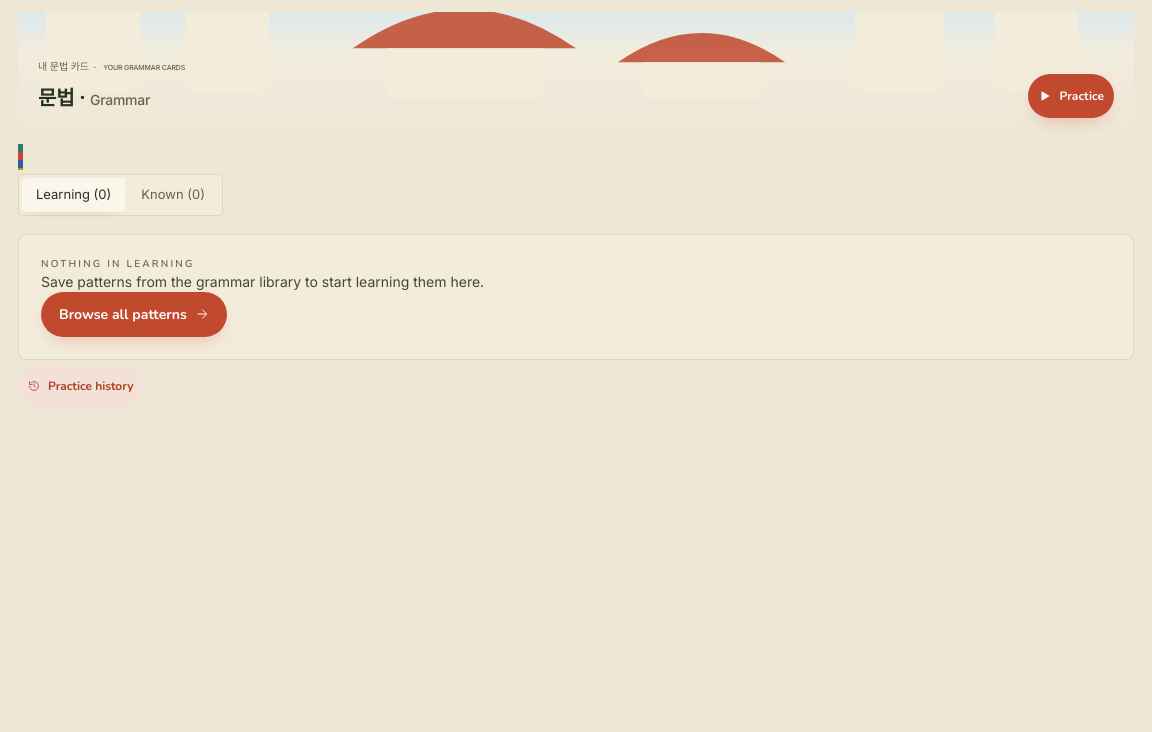
Test: Grammar — 3C-1 shape (cards default, Practice top-right, no tabs) › the BackButton on the practice view returns to the cards view (F-024)
expect the button "Learning (0)" is shown: met, box [22,178,125,212]
Step 1. Click the button "Practice" → (1071, 96), box [1028,74,1114,118]
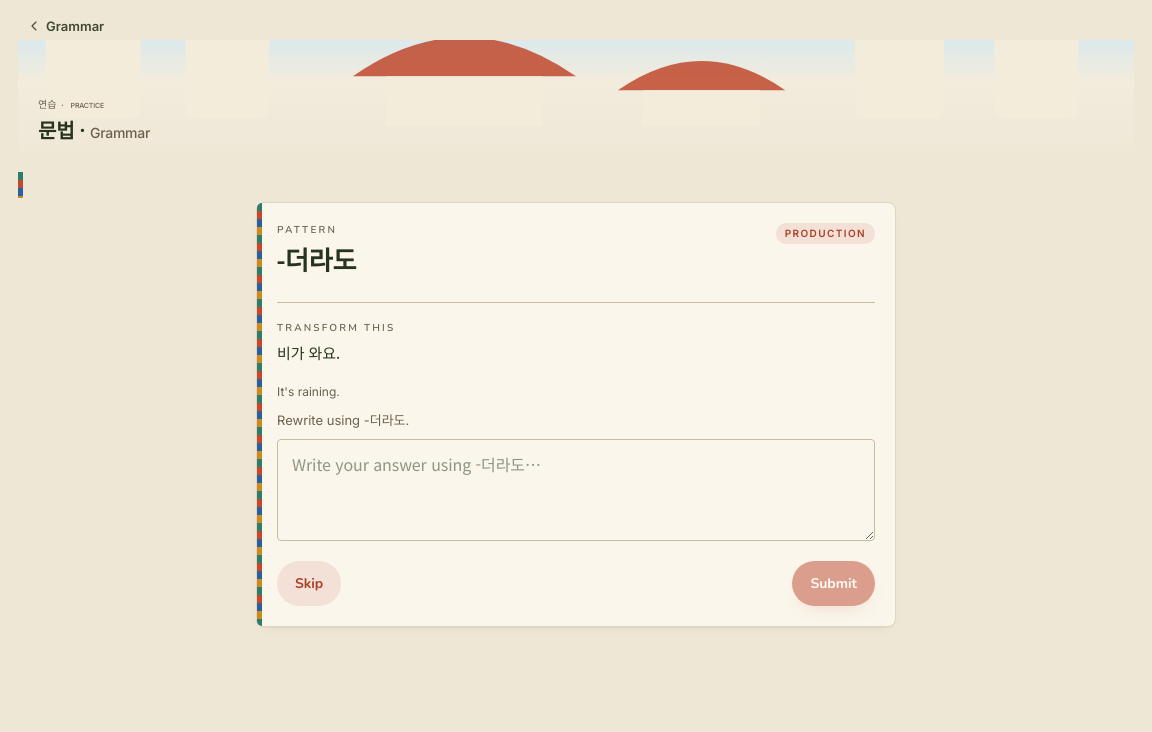
Step 2. Click the button with aria-label "Back to Grammar" → (67, 26), box [18,12,116,40]
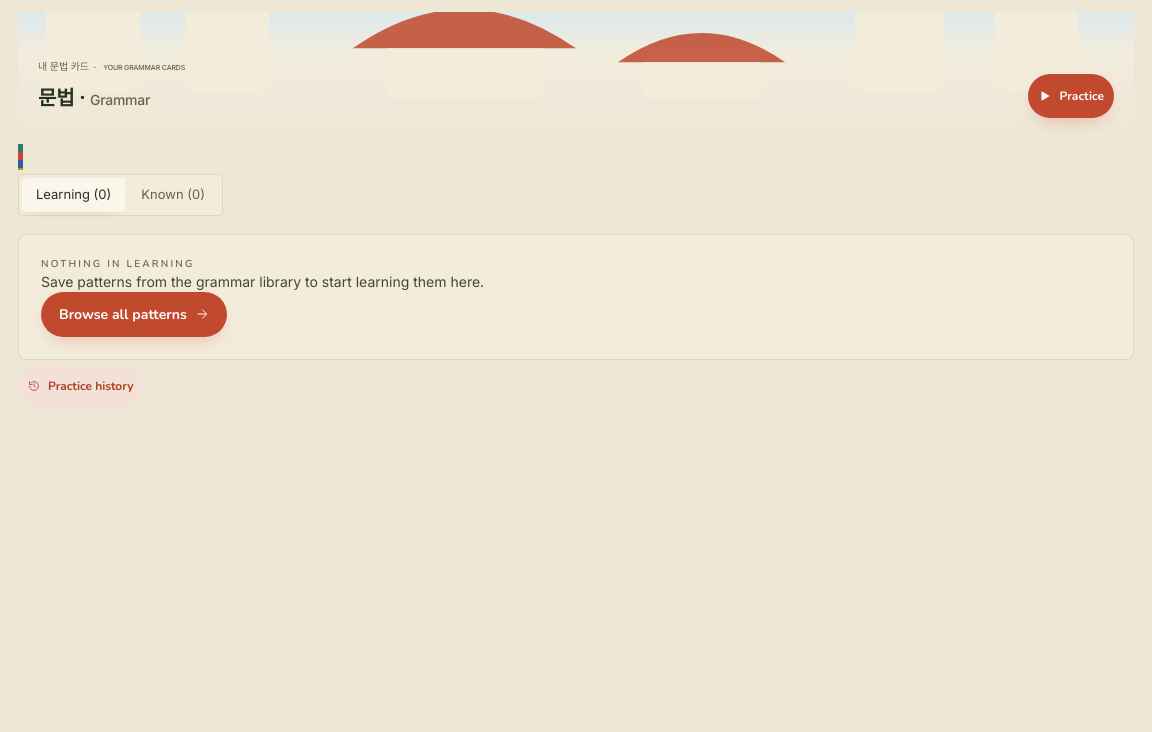
expect the button "Learning (0)" is shown: met, box [22,178,125,212]
expect the button "Practice" is shown: met, box [1028,74,1114,118]
